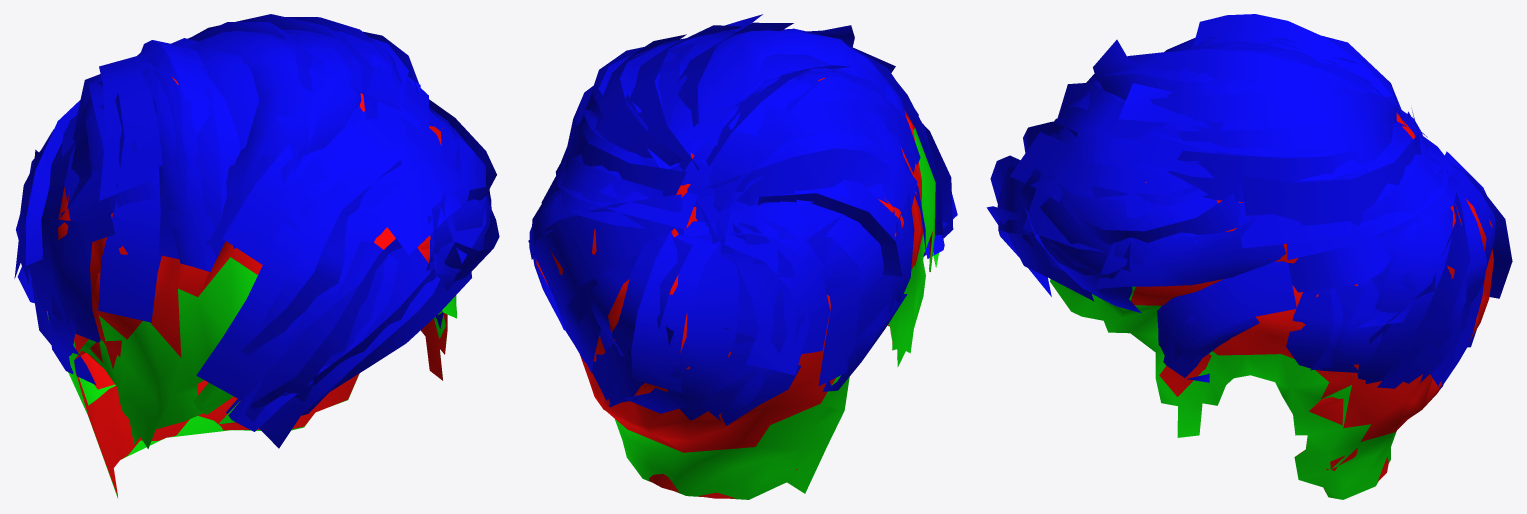
File: hair_004.obj
The picture shows the model from 3 angles, left to right: view 1: azimuth 30°, elevation 25°; view 2: azimuth 150°, elevation 25°; view 3: azimuth 270°, elevation 25°; orthographic projection. The views are drawn at different scales.
Bounding box in the file's own units: 19.14 × 22.08 × 24.49.
